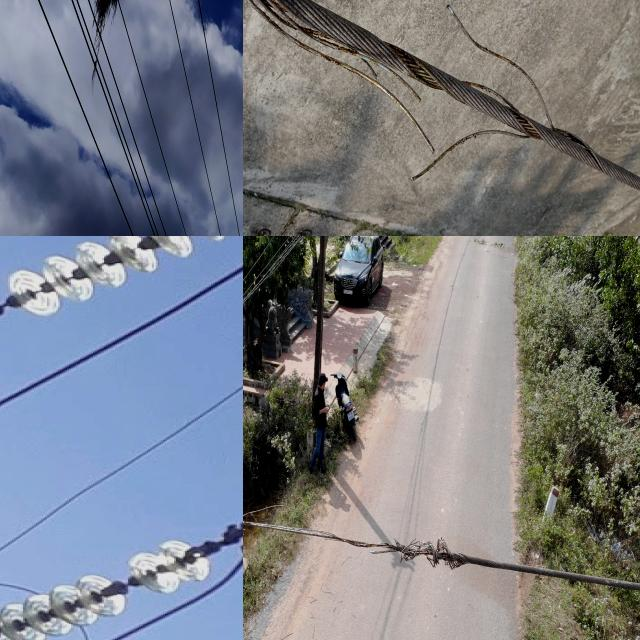植被遮挡: (88, 0, 123, 86)
正常绝缘子: (0, 499, 243, 640), (0, 236, 243, 353)
电缆破损: (252, 0, 628, 172), (243, 477, 482, 580)
绝缘子破损: (107, 574, 132, 596)
